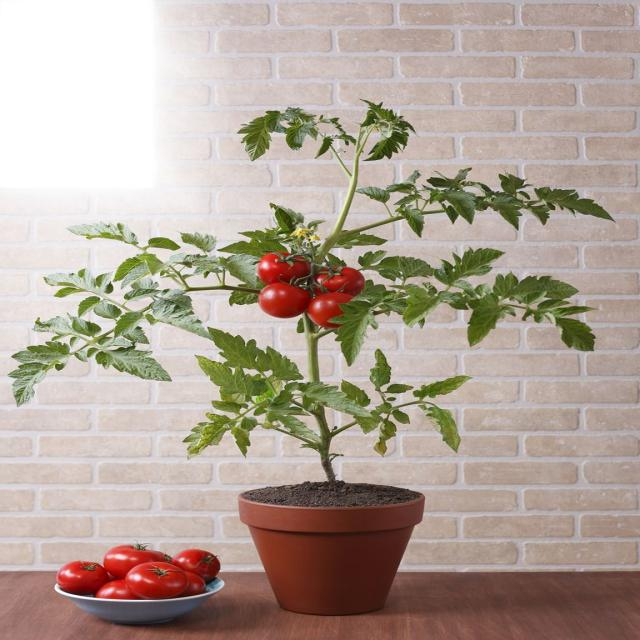level 6: (103, 544, 173, 577), (125, 562, 188, 598), (308, 292, 364, 330), (314, 266, 368, 304), (259, 252, 312, 288), (257, 283, 311, 318), (97, 580, 163, 608), (58, 562, 109, 594), (173, 550, 221, 580), (163, 571, 206, 597)
